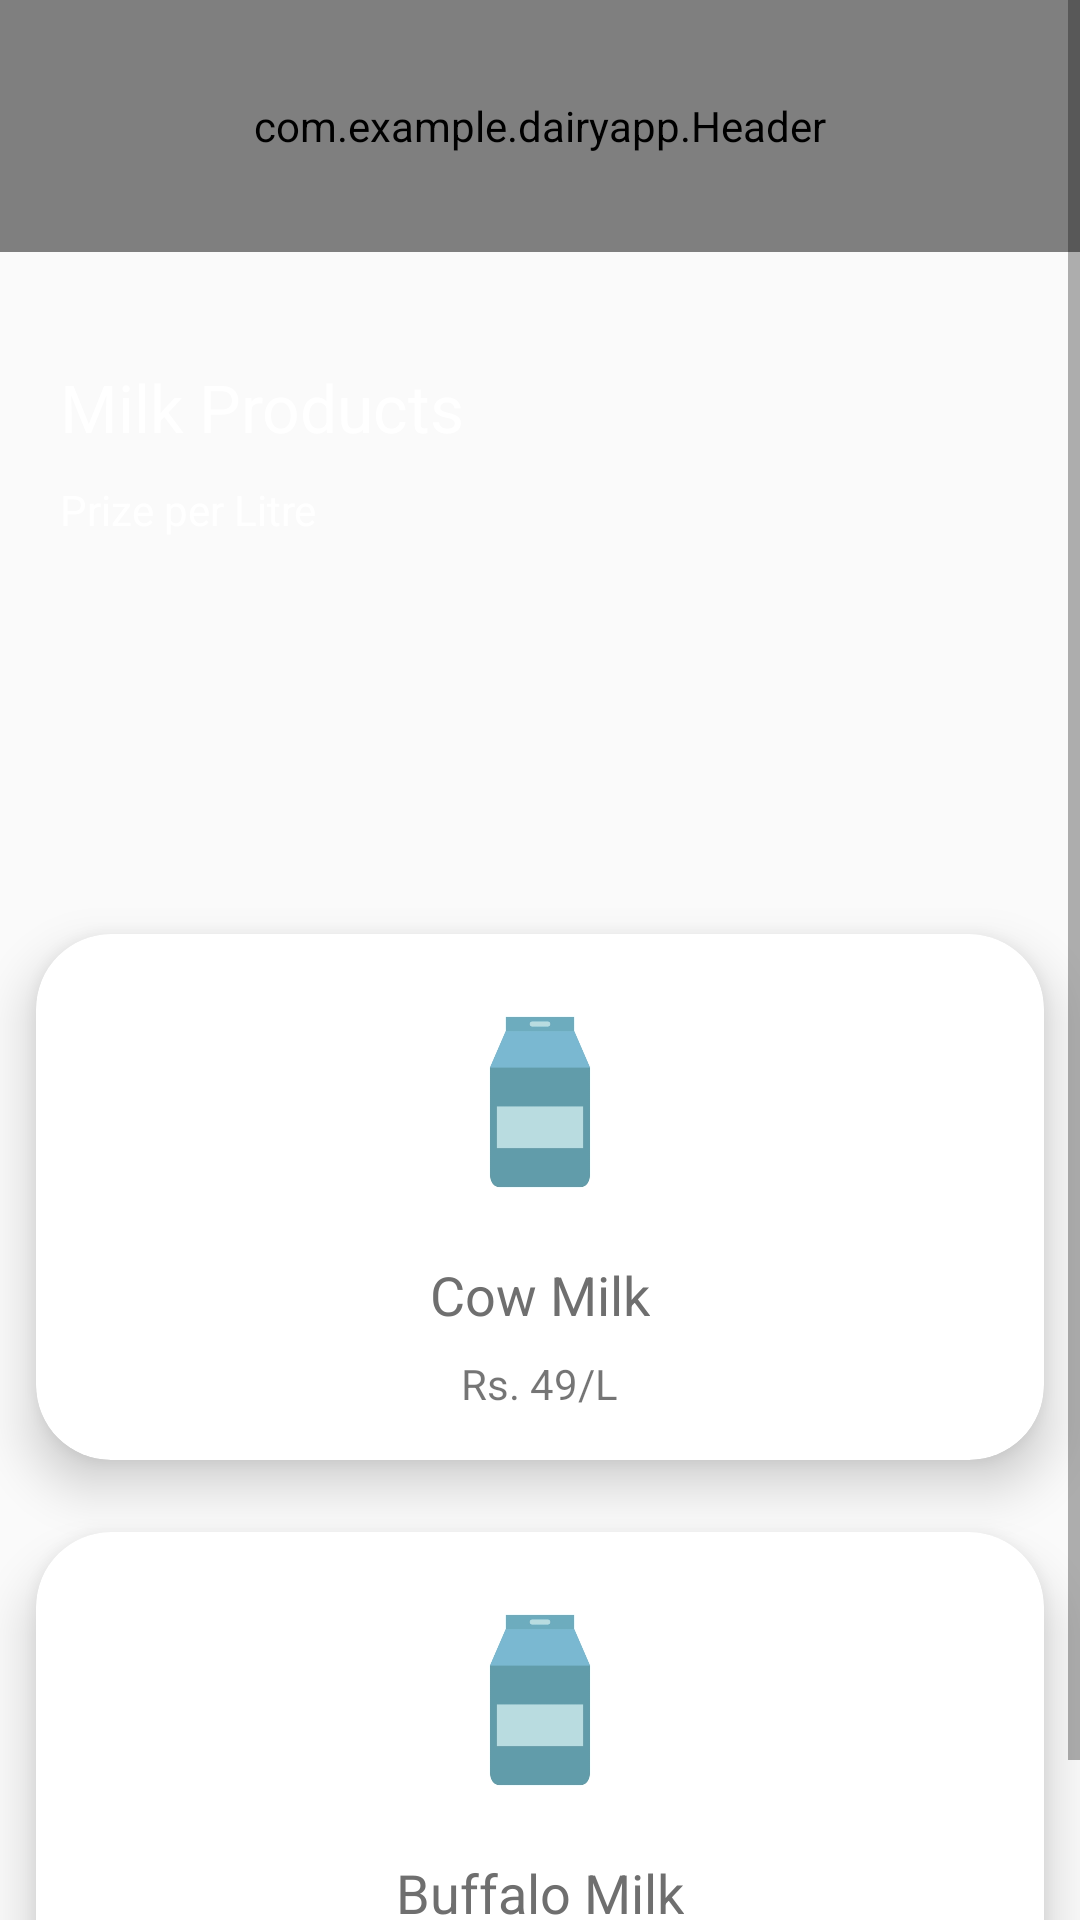

Screen size 1080w x 1920h. Icon name, then its box in pixels as (x1, y1, x2, y2):
milkfinal: (490, 1017, 590, 1187), (490, 1615, 590, 1785)
